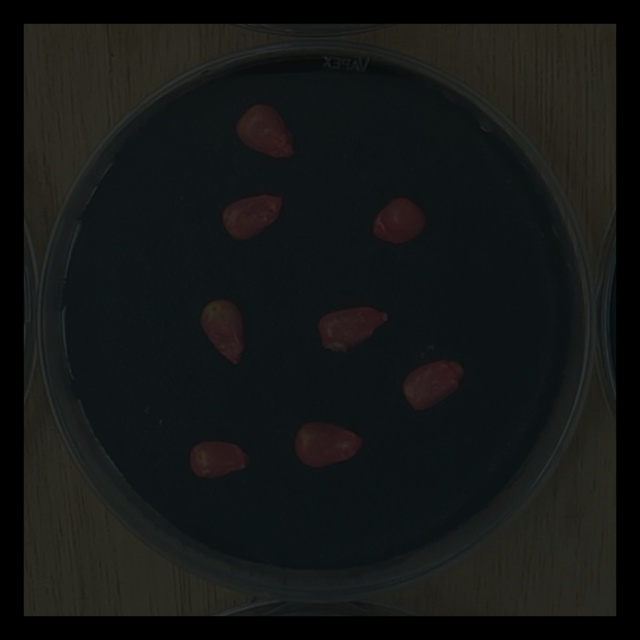Zea mays: (309, 298, 396, 358), (228, 96, 301, 166), (394, 352, 471, 417), (288, 414, 369, 474), (192, 292, 250, 372), (216, 185, 289, 245), (182, 432, 257, 485), (366, 190, 432, 249)
